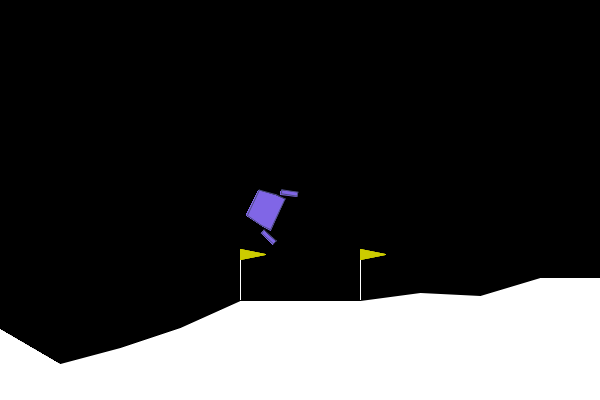lander: (238, 175, 300, 247)
